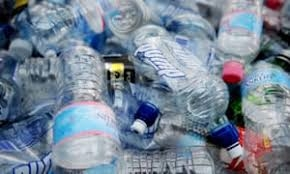plastic: (126, 18, 241, 148), (49, 43, 122, 172), (239, 57, 290, 165)
